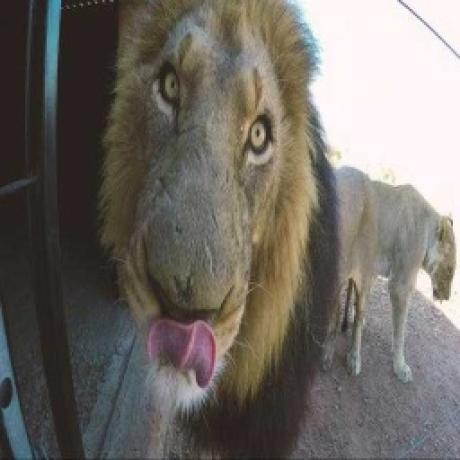Lion: (96, 0, 339, 460), (335, 166, 460, 384)
